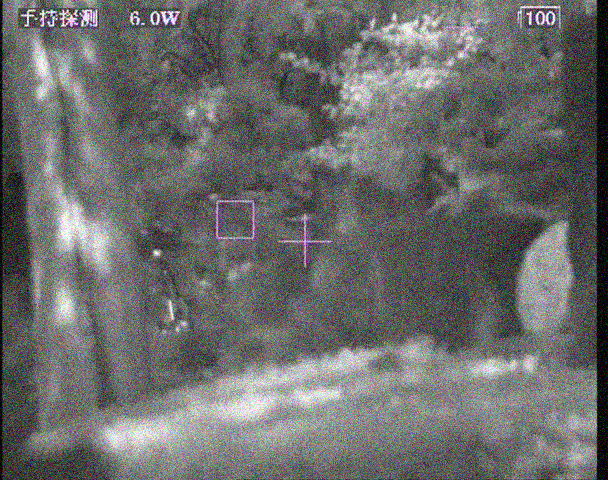my: (152, 248, 162, 257)
